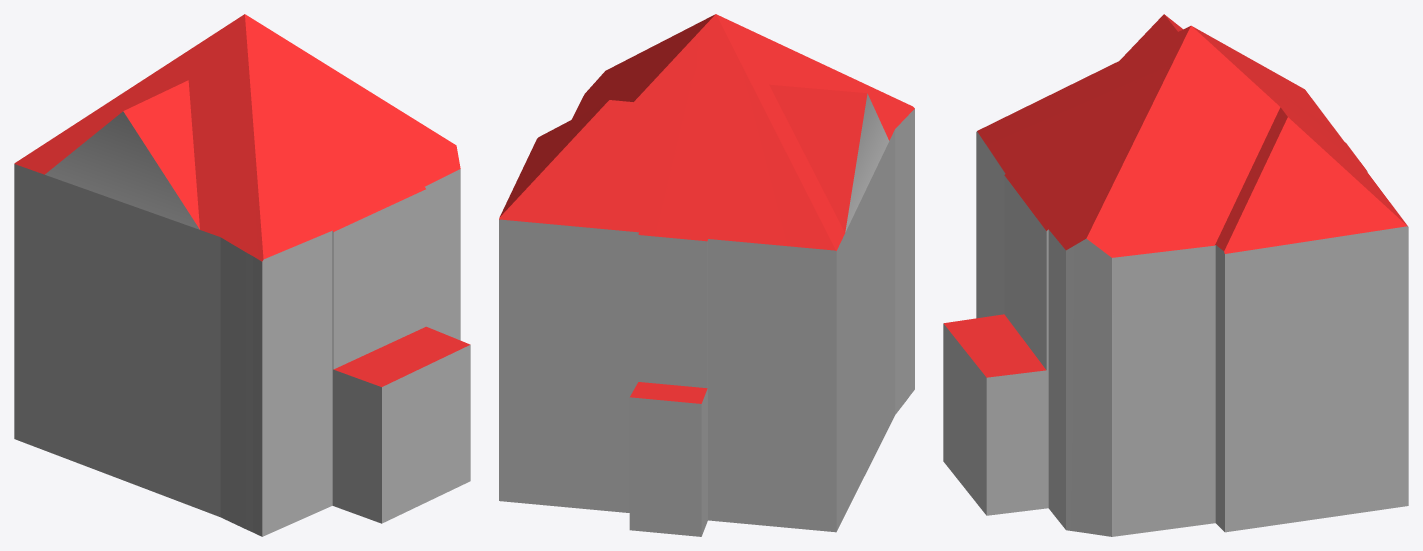
The model's file is DEBY_LOD2_4782154.dae.
3 views of the same model, side by side, from view 1: azimuth 30°, elevation 25°; view 2: azimuth 150°, elevation 25°; view 3: azimuth 270°, elevation 25° (orthographic). The views are drawn at different scales.
Bounding box in the file's own units: 15.78 × 18.38 × 18.68.
